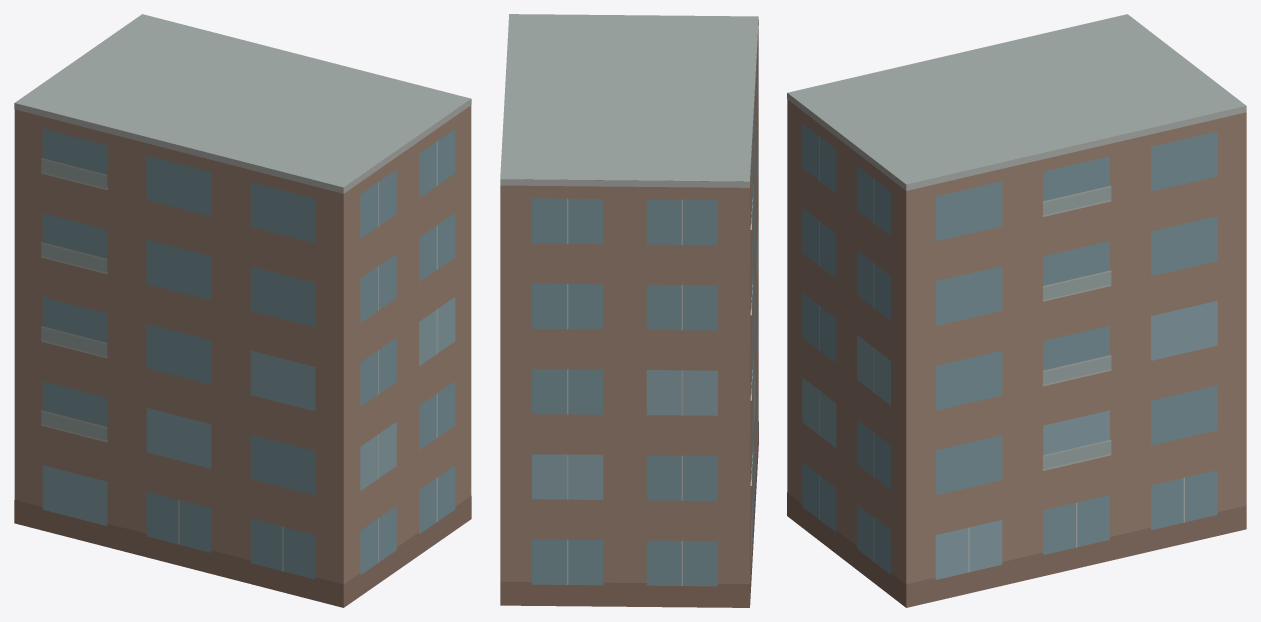
Rendered from survey-upis-32886691.glb.
The picture shows the model from 3 angles, left to right: view 1: azimuth 30°, elevation 25°; view 2: azimuth 150°, elevation 25°; view 3: azimuth 270°, elevation 25°; orthographic projection.
Parts seen in each view (by area): view 1: survey-upis-32886691.tmp; view 2: survey-upis-32886691.tmp; view 3: survey-upis-32886691.tmp.
Boxes of the visible parts, x1,y1,x2,y2 form: survey-upis-32886691.tmp: [14, 14, 471, 607]; survey-upis-32886691.tmp: [500, 14, 758, 607]; survey-upis-32886691.tmp: [787, 14, 1246, 607].
Bounding box in the file's own units: 14.05 × 16.25 × 16.
